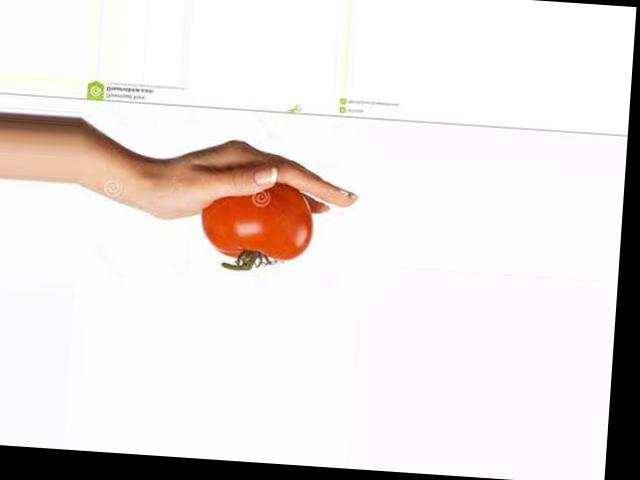tomato: (199, 177, 316, 262)
